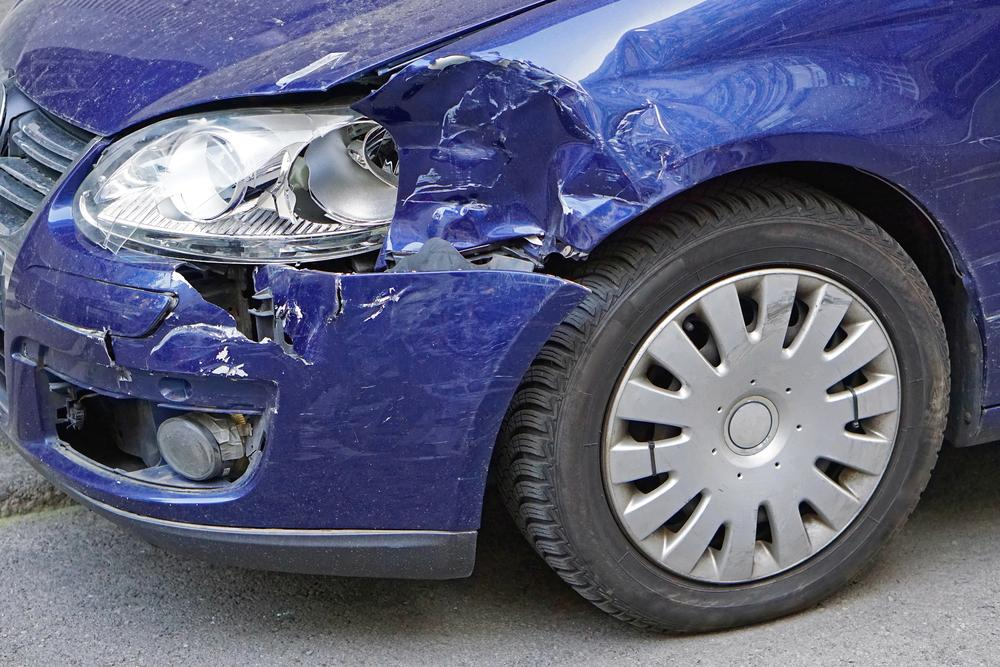crack: (175, 262, 315, 366), (102, 331, 131, 377), (327, 275, 346, 326)
dent: (354, 27, 692, 254)
lamp broken: (73, 104, 399, 258)
